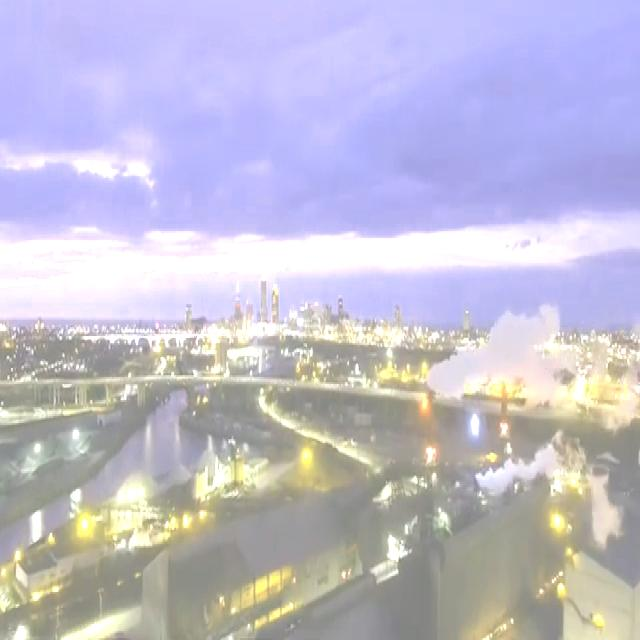smoke: (425, 304, 560, 402), (480, 436, 569, 514)
